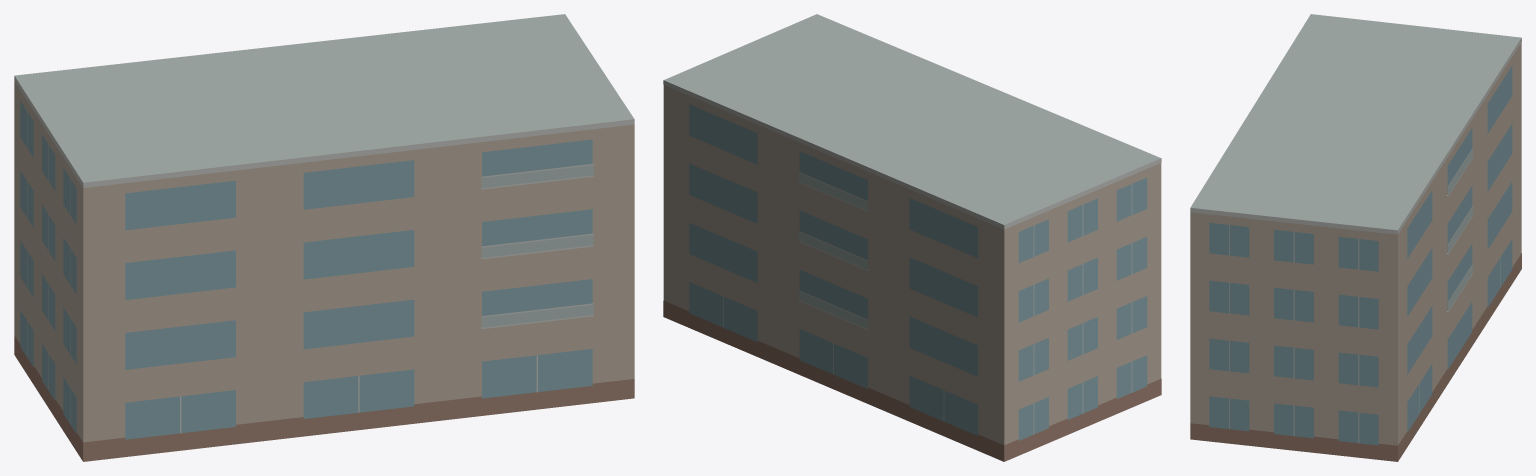
Rendered from survey-upis-32889748.glb.
3 views of the same model, side by side, from view 1: azimuth 30°, elevation 25°; view 2: azimuth 150°, elevation 25°; view 3: azimuth 270°, elevation 25° (orthographic). The views are drawn at different scales.
Visible parts, largest first — view 1: survey-upis-32889748.tmp; view 2: survey-upis-32889748.tmp; view 3: survey-upis-32889748.tmp.
Part boxes in pixels (x1,y1,x2,y2): survey-upis-32889748.tmp: (14,14,634,461); survey-upis-32889748.tmp: (663,14,1161,461); survey-upis-32889748.tmp: (1190,14,1521,461).
Size of the model in its own units: 25.65 by 12.8 by 16.62.
